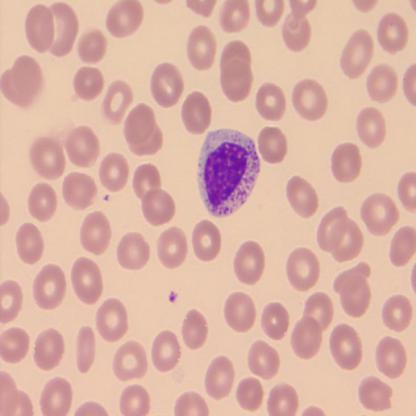Metamyelocyte: (195, 126, 262, 221)
